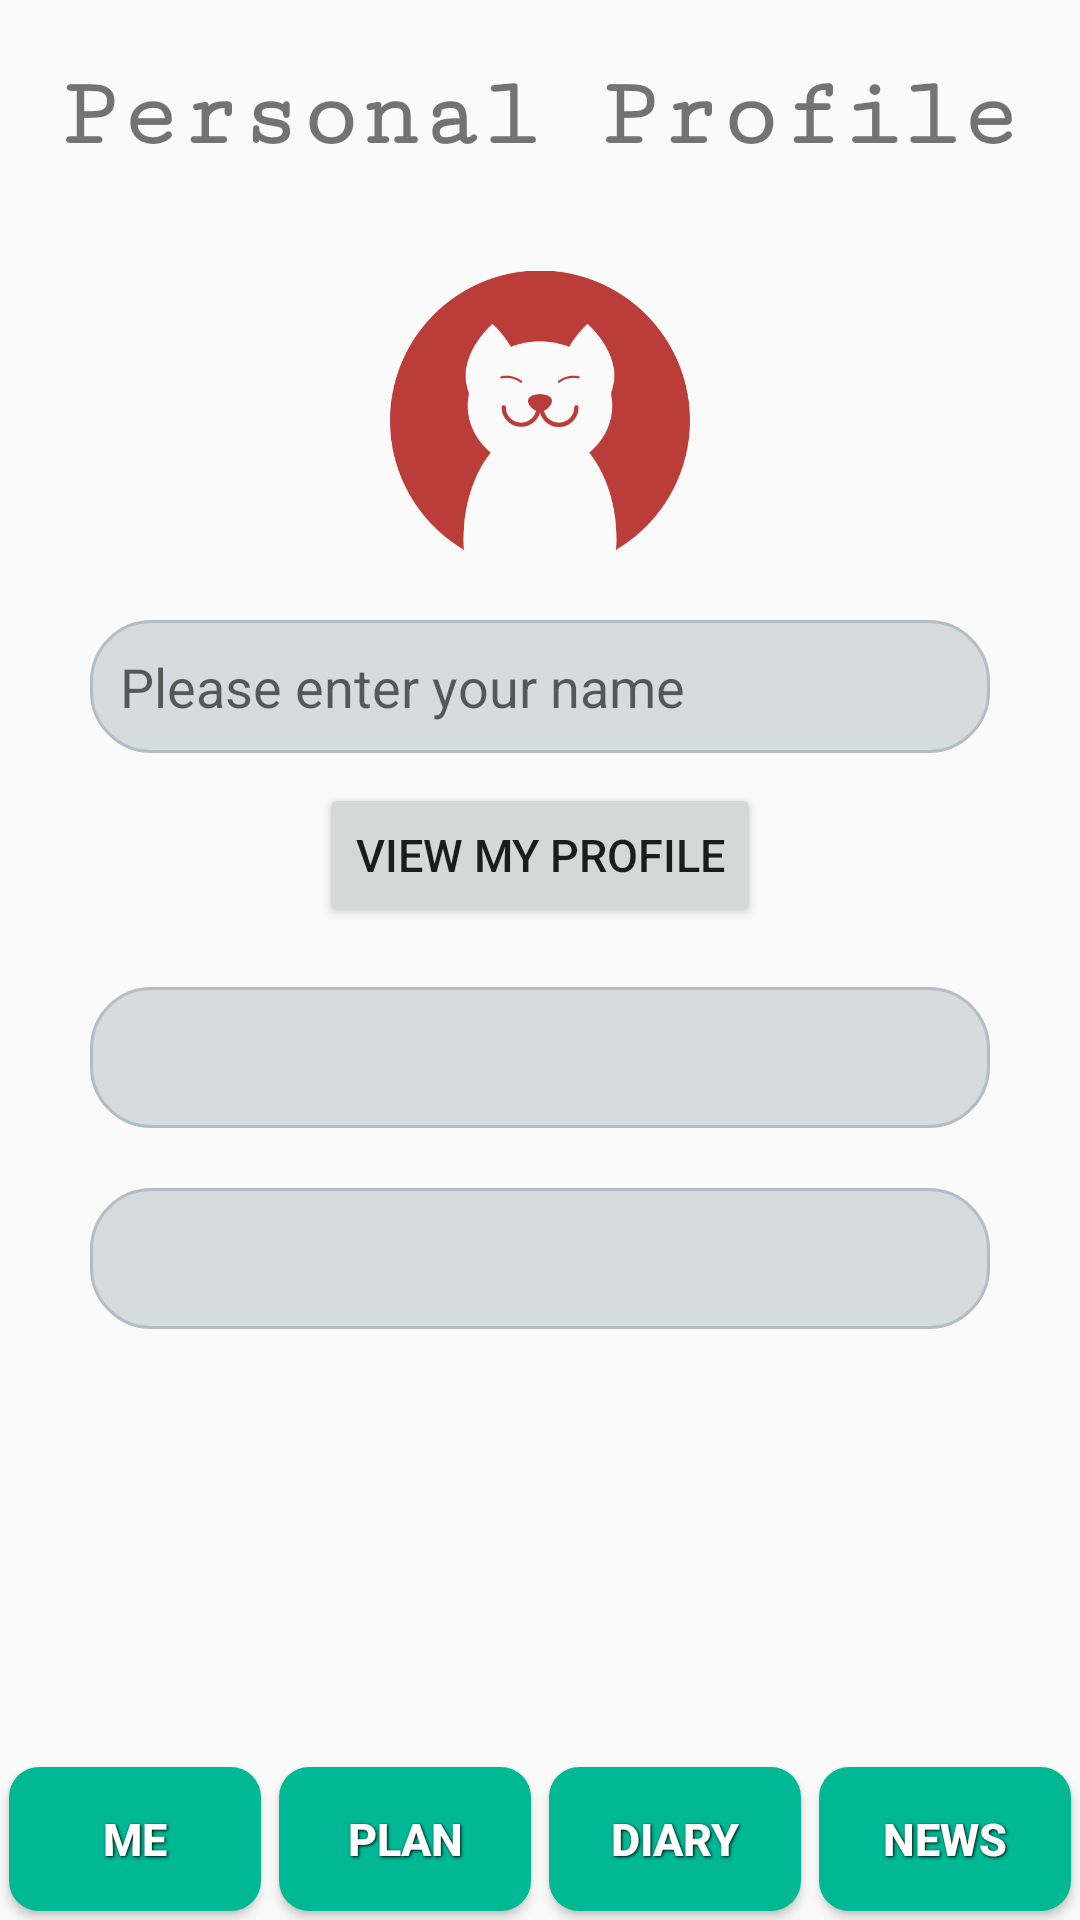

Where icons sit on this 1080×1920 app screen, as (x1, y1, x2, y2):
cat: (390, 271, 690, 550)
